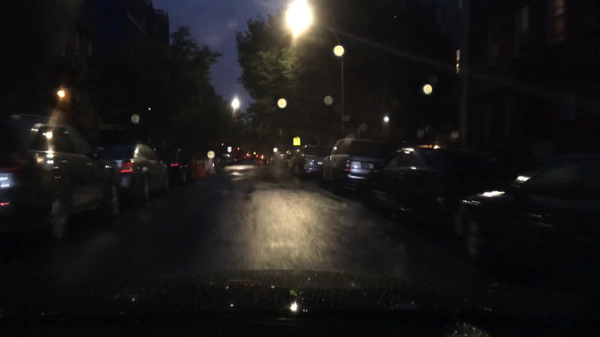car: (449, 150, 599, 270), (0, 112, 121, 242), (362, 147, 499, 231), (96, 141, 173, 206), (318, 138, 390, 194), (155, 146, 196, 186), (291, 146, 334, 179), (287, 144, 302, 171), (279, 147, 296, 169), (222, 152, 239, 165), (275, 149, 285, 166), (214, 156, 225, 169), (271, 149, 279, 166), (264, 153, 272, 163), (256, 153, 265, 161)
traffic sign: (292, 135, 302, 148), (205, 151, 215, 159)
